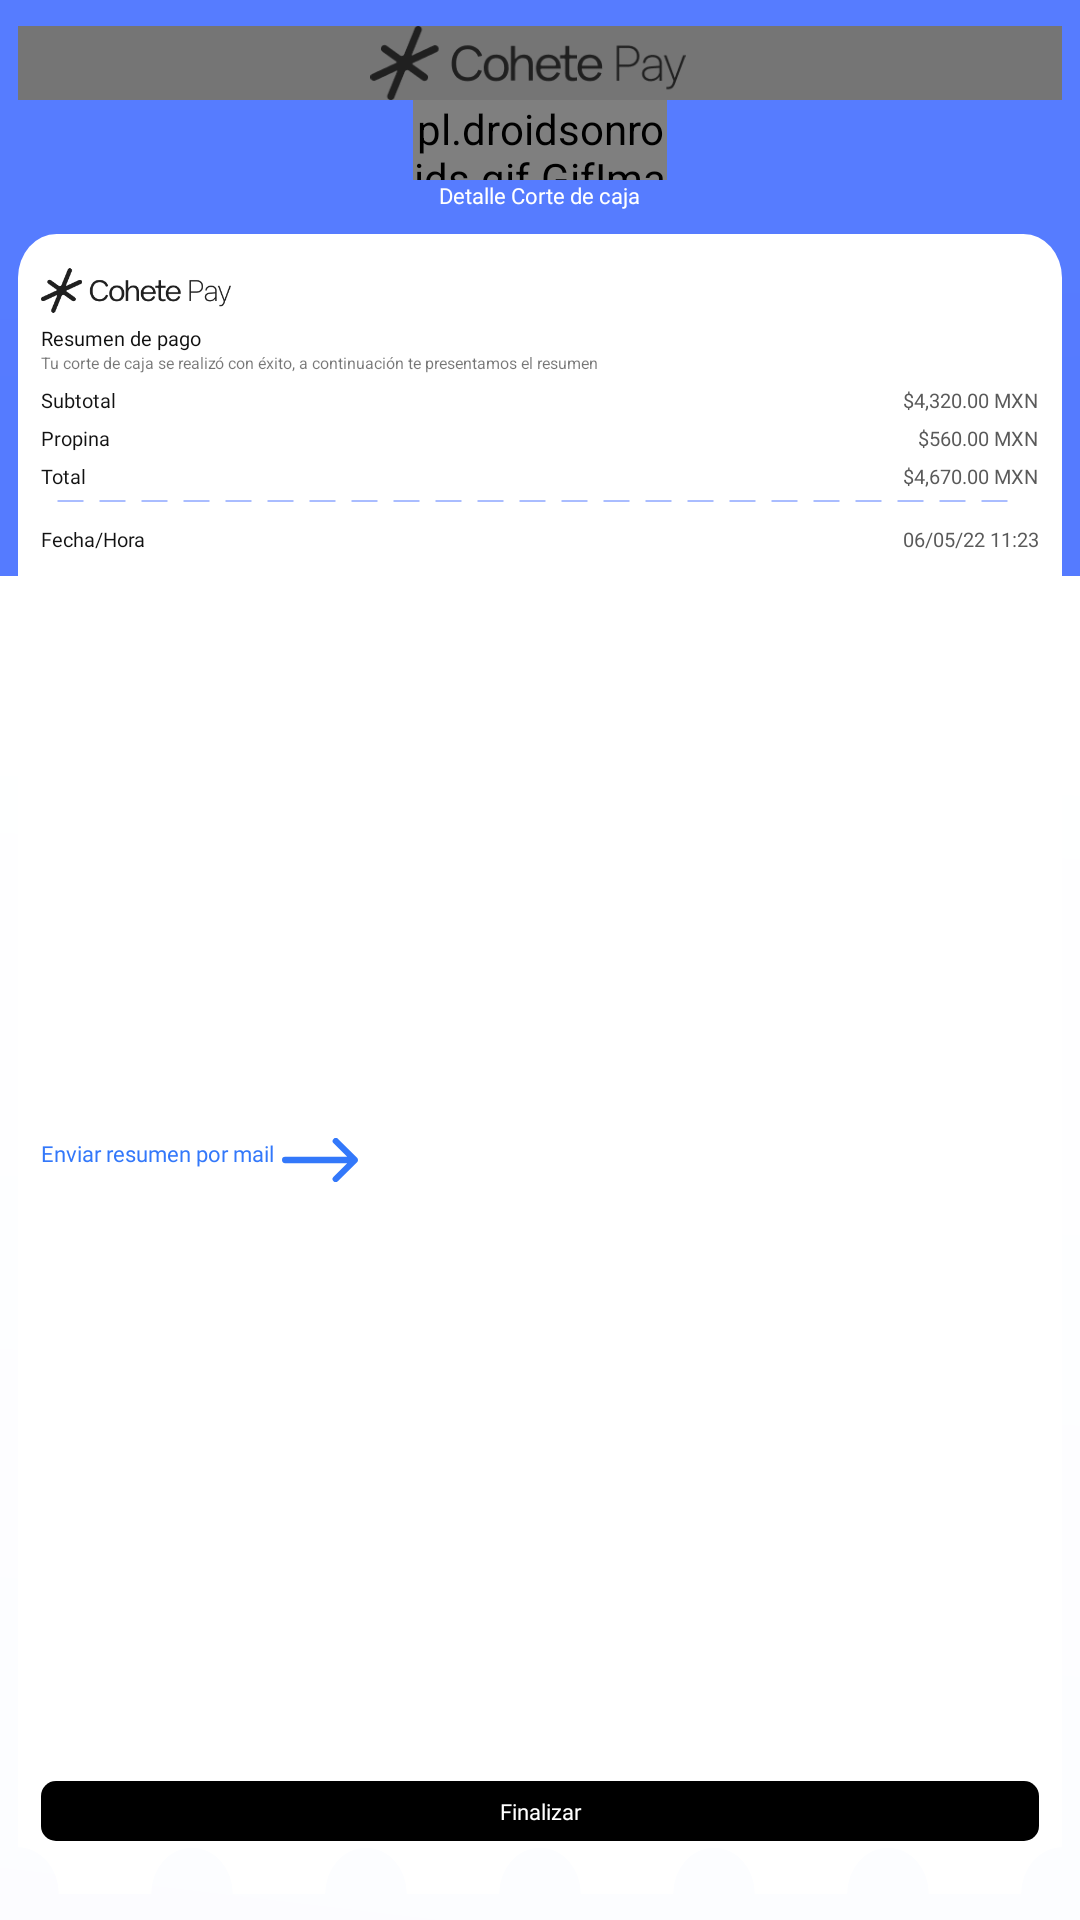

Icons on this 1080*1920 Android screen, each with the point to tap as [x,y]:
flecha ticket: [320,1160]
